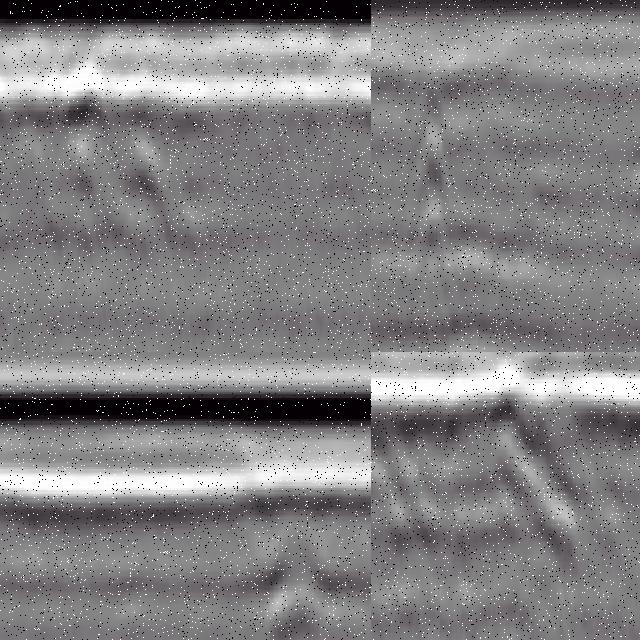crack: (399, 44, 453, 353)
loose: (372, 360, 587, 558), (27, 62, 200, 255)
